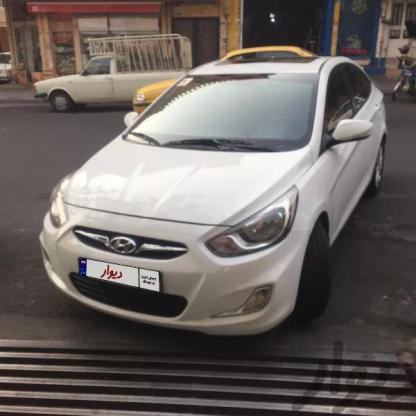Car: (56, 39, 368, 374), (3, 45, 181, 126), (128, 44, 277, 135)
